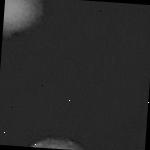colony: (1, 0, 51, 51), (20, 129, 100, 150)
